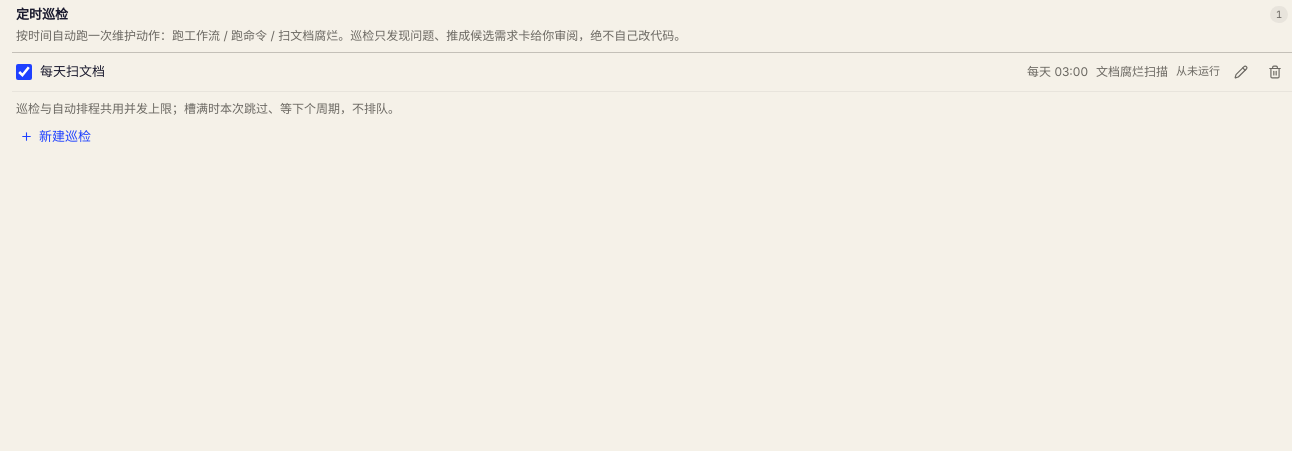
Test: PatrolSettings · 触发编辑（下拉 + 时刻选择器，绝不出现表达式输入框） › 切到「每 n 小时」→ 给小时数选择器、不给时刻；切到「每周」→ 多一个周几下拉
Click the button named "编辑巡检 每天扫文档": x=1241, y=72 [1228, 58, 1254, 84]
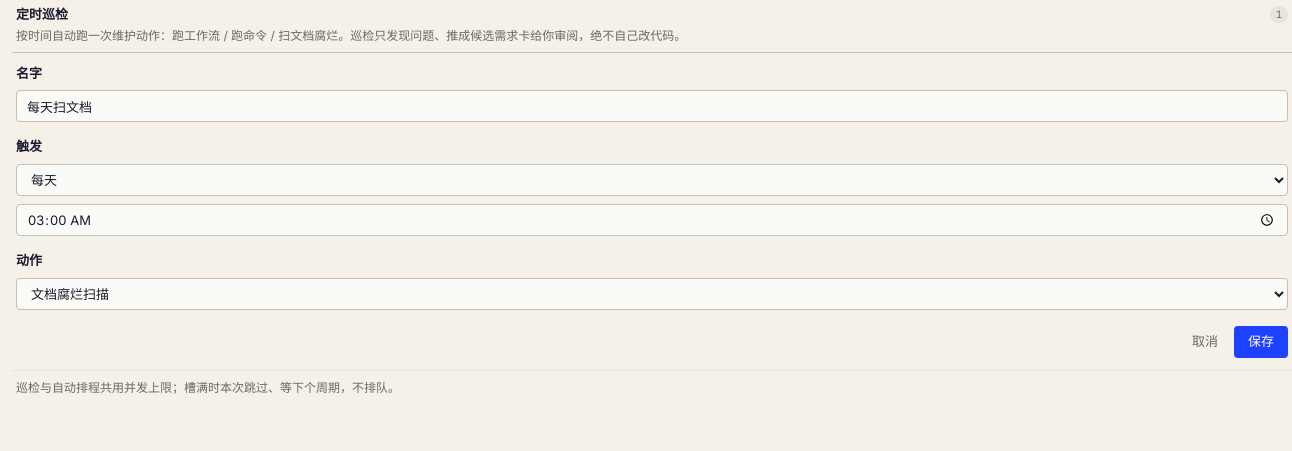
Select "每 n 小时" in the dropdown labelled "触发": x=652, y=180 [16, 164, 1288, 196]
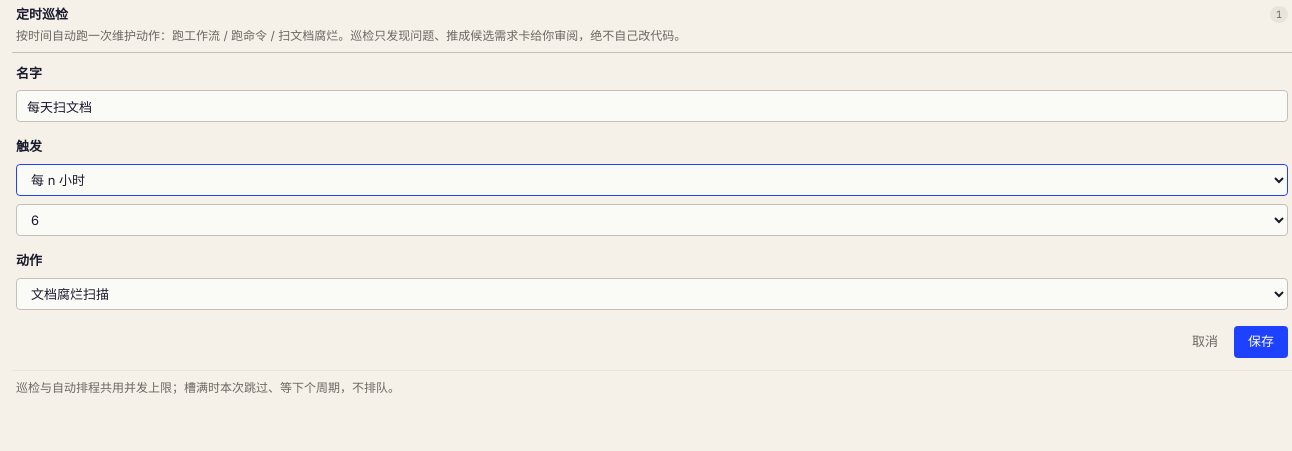
Result: the dropdown named "每几小时" is shown at [16, 204, 1288, 236]
Result: the time field labelled "时刻" is gone
Select "每周" in the dropdown labelled "触发": x=652, y=180 [16, 164, 1288, 196]
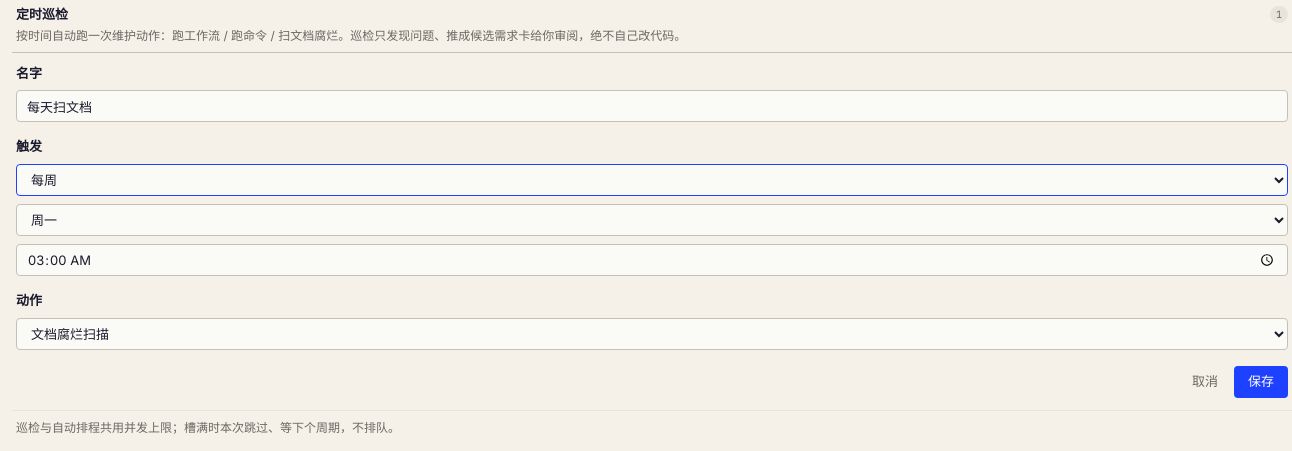
Result: the dropdown named "周几" is shown at [16, 204, 1288, 236]
